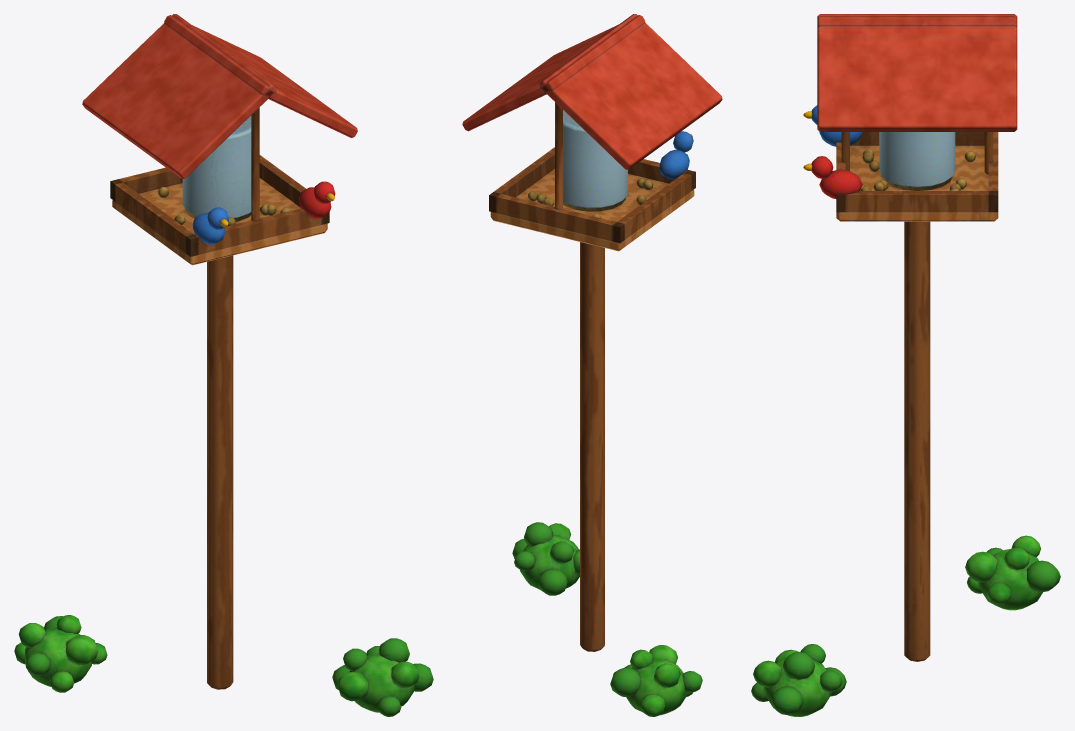
The model's file is bird_feeder.glb.
3 views of the same model, side by side, from view 1: azimuth 30°, elevation 25°; view 2: azimuth 150°, elevation 25°; view 3: azimuth 270°, elevation 25° (orthographic). The views are drawn at different scales.
Parts seen in each view (by area): view 1: bird_feeder; view 2: bird_feeder; view 3: bird_feeder.
Part boxes in pixels (x1,y1,x2,y2): bird_feeder: [14, 14, 433, 716]; bird_feeder: [462, 14, 722, 716]; bird_feeder: [751, 14, 1060, 716].
Bounding box in the file's own units: 0.7387 × 1.5 × 0.6501.
Materials: 1 (1 with a texture image).
